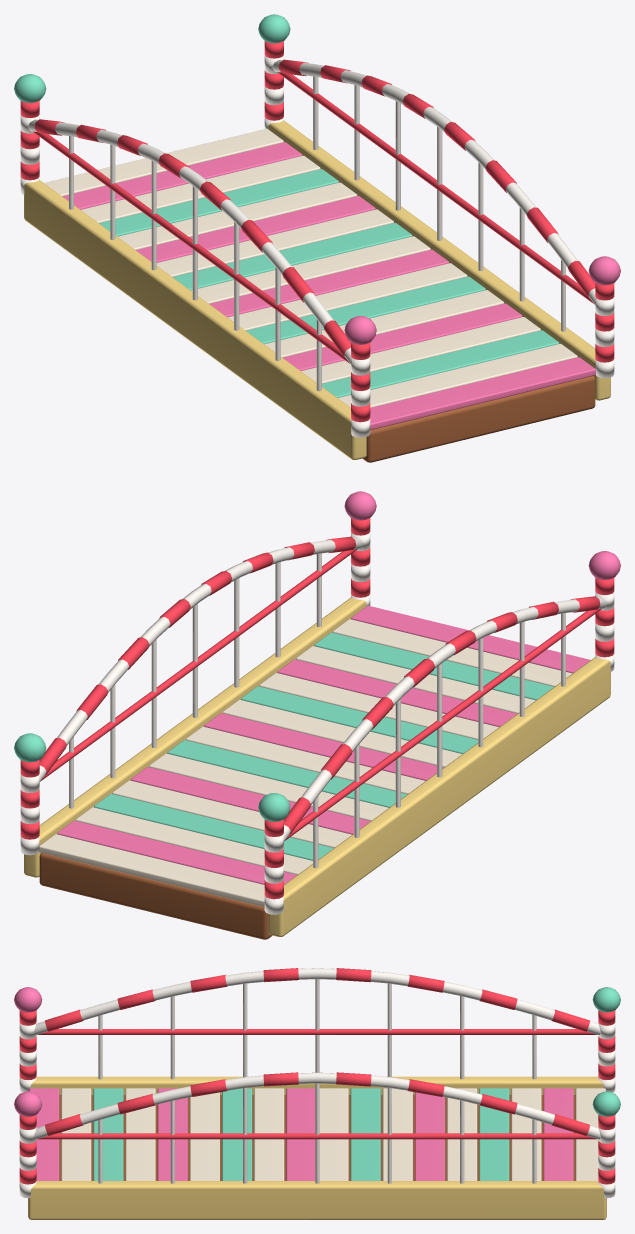
File: candy_bridge.glb
The picture shows the model from 3 angles, top to bottom: view 1: azimuth 30°, elevation 25°; view 2: azimuth 150°, elevation 25°; view 3: azimuth 270°, elevation 25°; orthographic projection. The views are drawn at different scales.
Visible parts, largest first — view 1: Bridge; view 2: Bridge; view 3: Bridge.
Boxes of the visible parts, box(x1,y1,x2,y2) form: Bridge: box(14, 14, 620, 462); Bridge: box(14, 491, 620, 939); Bridge: box(14, 968, 620, 1219).
Bounding box in the file's own units: 4.28 × 2.59 × 9.44.
